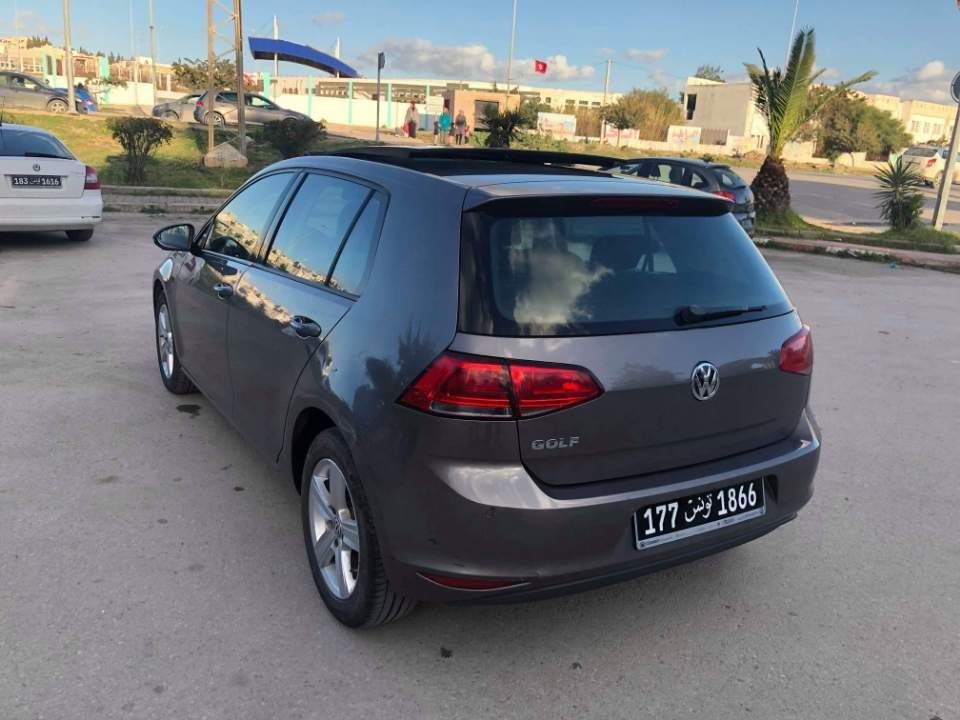LP: (633, 471, 767, 546)
